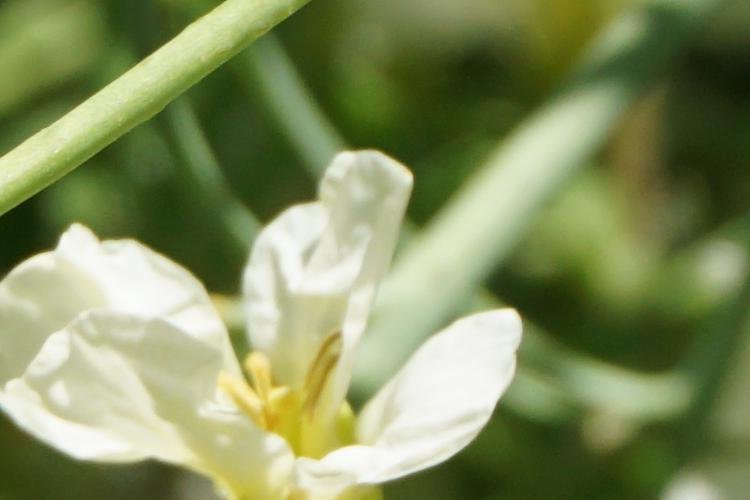white: (30, 192, 534, 477)
